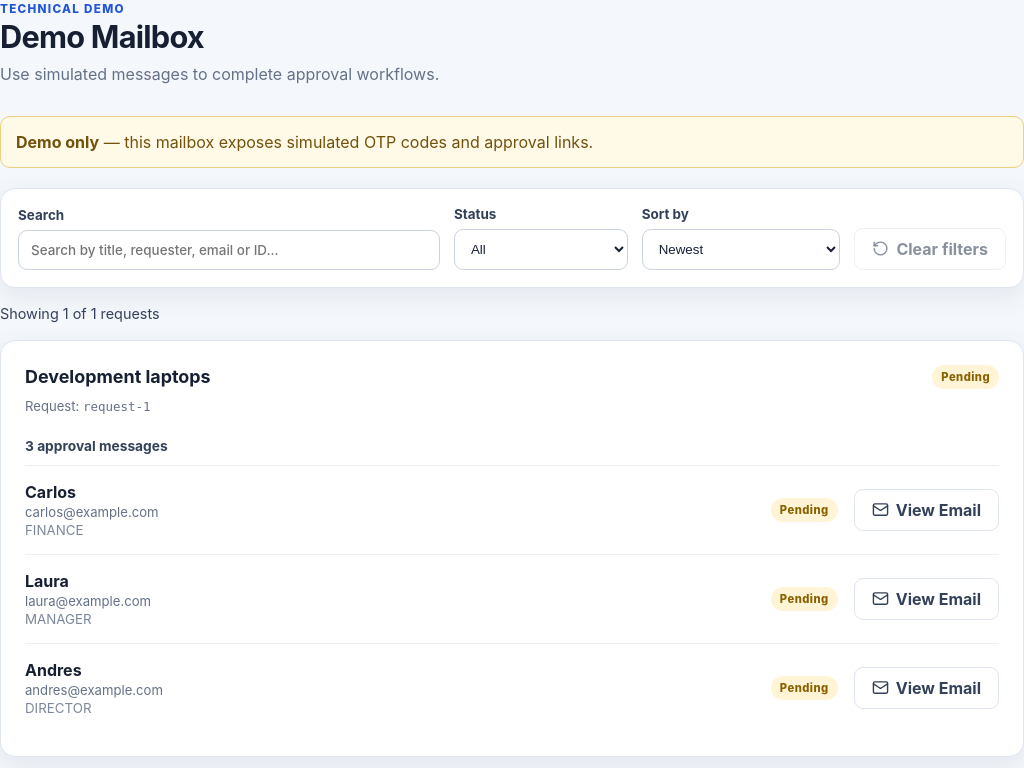
Test: MockMailPage › expands and contracts one email independently
Click the button "View Email" in the row of "carlos@example.com" at (926, 510), box [854, 489, 999, 531]
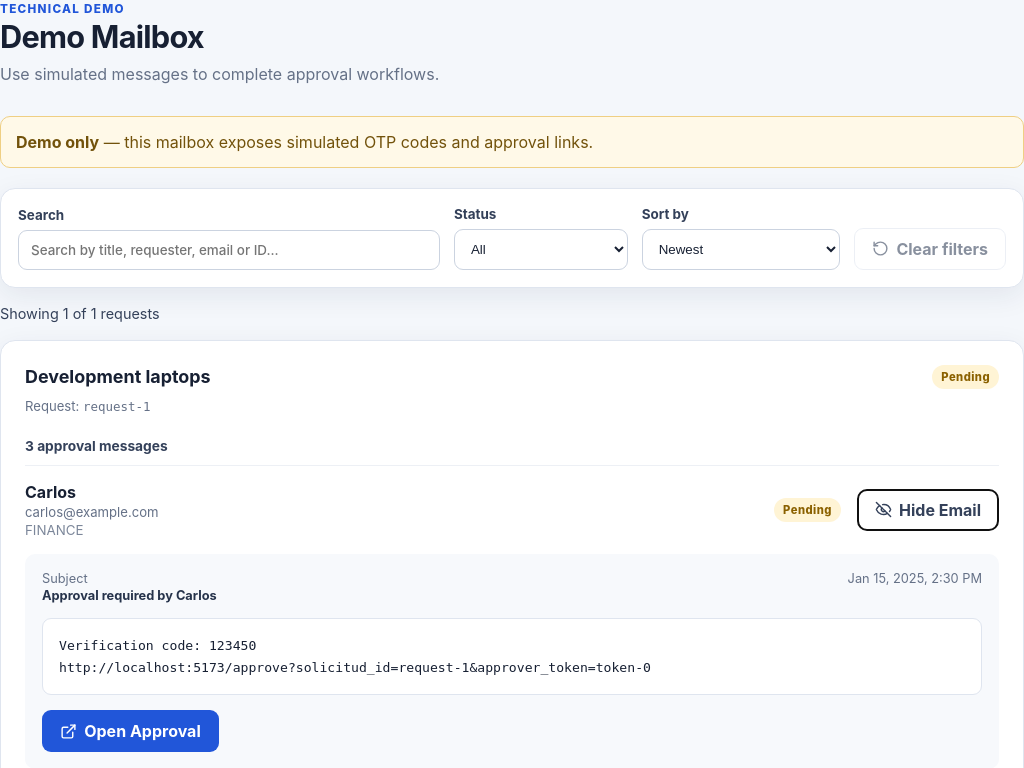
Expected: the text "Verification code: 123450" is shown, [59, 638, 651, 674]
Click the button "Hide Email" at (928, 510), box [857, 489, 999, 531]
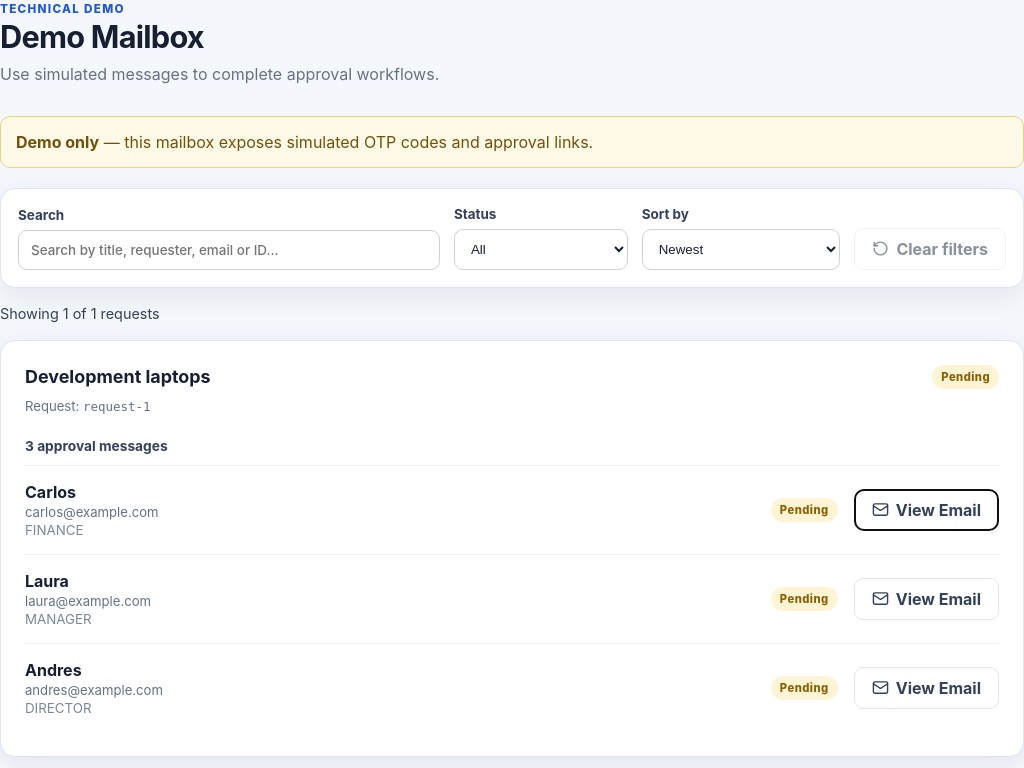
Expected: the text "Verification code: 123450" is gone
